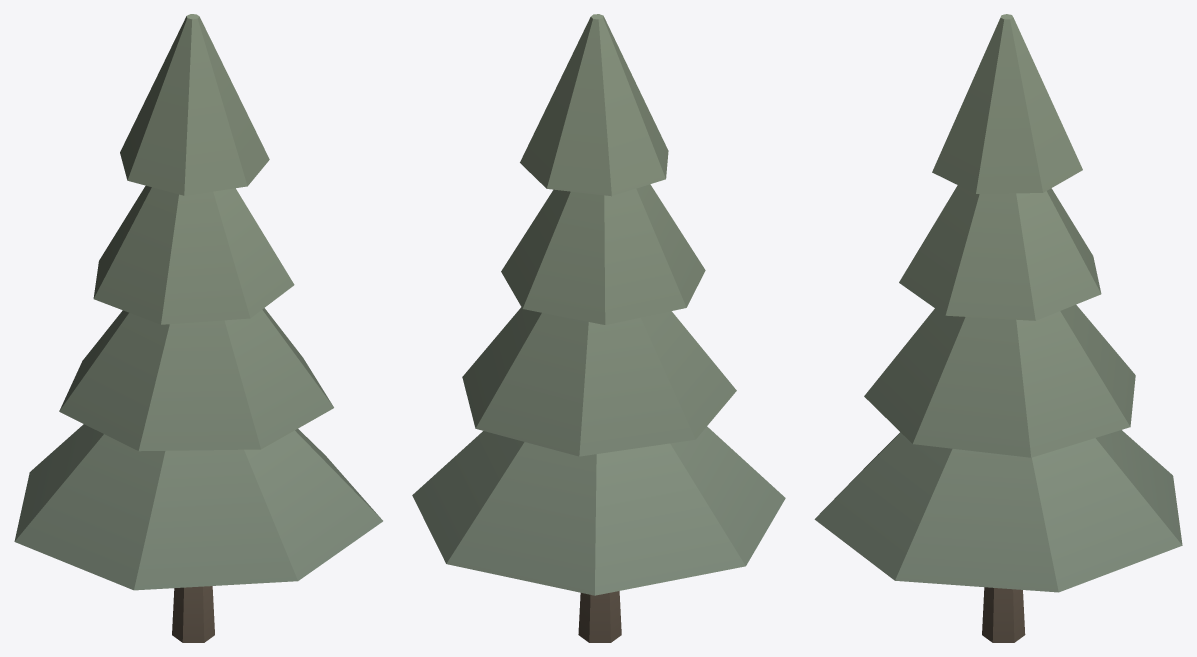
Rendered from iv_pine_a.glb.
3 views of the same model, side by side, from view 1: azimuth 30°, elevation 25°; view 2: azimuth 150°, elevation 25°; view 3: azimuth 270°, elevation 25° (orthographic).
Parts seen in each view (by area): view 1: iv_pine_a; view 2: iv_pine_a; view 3: iv_pine_a.
Part boxes in pixels (x1,y1,x2,y2): iv_pine_a: (14,14,382,642); iv_pine_a: (412,14,785,642); iv_pine_a: (814,14,1182,642).
Size of the model in its own units: 4.48 by 8.2 by 4.42.
